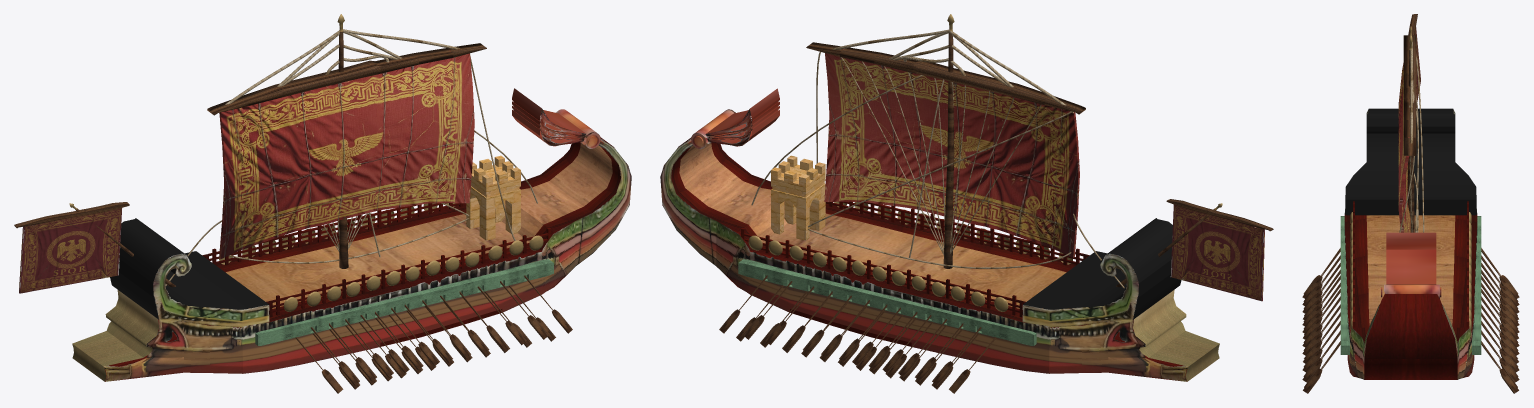
Rendered from Quadrireme.fbx.
The picture shows the model from 3 angles, left to right: view 1: azimuth 30°, elevation 25°; view 2: azimuth 150°, elevation 25°; view 3: azimuth 270°, elevation 25°; orthographic projection. The views are drawn at different scales.
Visible parts, largest first — view 1: Cube, Plane, Cube.001, Plane.001, Cube.006, Cube.007, Cube.003, Cube.004, Cube.002, Cube.009, BézierCurve, BézierCurve.002 (+3 smaller); view 2: Cube, Plane, Cube.001, Plane.001, Cube.007, Cube.006, Cube.003, Cube.004, Cube.002, BézierCurve.001, BézierCurve.002, Cube.009 (+4 smaller); view 3: Cube, Cube.001, Cube.009, Cube.006, Cube.004, Plane, BézierCurve.002, Cube.002, Cylinder.002, Cube.007, Cylinder, Cube.011 (+15 smaller).
Part boxes in pixels (box(x1,y1,x2,y2)): Cube: box(72, 136, 631, 381); Plane: box(219, 50, 474, 258); Cube.001: box(110, 218, 269, 327); Plane.001: box(19, 208, 121, 293); Cube.006: box(255, 259, 553, 345); Cube.007: box(202, 203, 551, 317); Cube.003: box(466, 155, 520, 240); Cube.004: box(207, 43, 486, 115); Cube.002: box(219, 203, 543, 311); Cube.009: box(512, 88, 585, 146); BézierCurve: box(225, 29, 460, 104); BézierCurve.002: box(165, 54, 537, 285); Cube: box(660, 137, 1219, 381); Plane: box(824, 49, 1079, 257); Cube.001: box(1022, 218, 1181, 327); Plane.001: box(1170, 204, 1264, 301); Cube.007: box(741, 201, 1089, 317); Cube.006: box(738, 259, 1036, 345); Cube.003: box(771, 155, 825, 240); Cube.004: box(806, 42, 1085, 114); Cube.002: box(748, 201, 1072, 311); BézierCurve.001: box(841, 57, 1041, 255); BézierCurve.002: box(751, 51, 1124, 288); Cube.009: box(705, 88, 779, 146); Cube: box(1344, 209, 1477, 379); Cube.001: box(1345, 108, 1476, 215); Cube.009: box(1386, 232, 1436, 284); Cube.006: box(1340, 216, 1481, 354); Cube.004: box(1403, 35, 1416, 155); Plane: box(1398, 63, 1410, 232); BézierCurve.002: box(1399, 54, 1424, 232); Cube.002: box(1350, 212, 1471, 329); Cylinder.002: box(1381, 284, 1441, 298); Cube.007: box(1352, 201, 1469, 329); Cylinder: box(1407, 34, 1414, 232); Cube.011: box(1302, 332, 1519, 382).
Bounding box in the file's own units: 28565 × 14859 × 10175.
13 materials, 13 textured.
